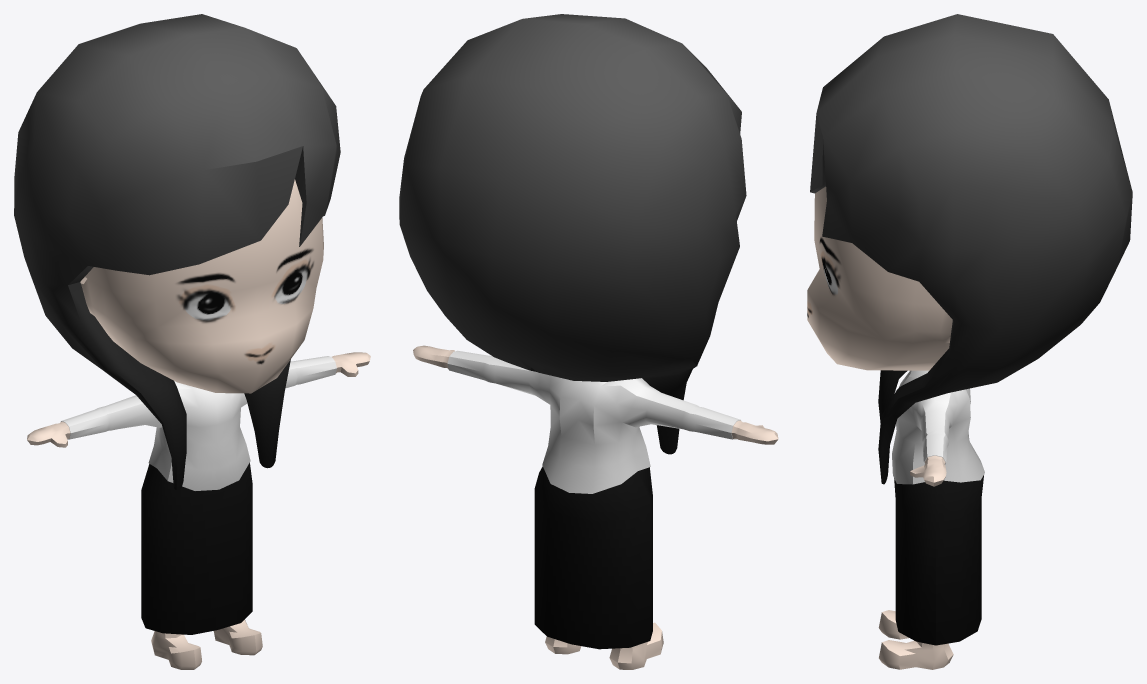
File: Char_CEWEK_004.fbx
3 renders of one model, left to right at view 1: azimuth 30°, elevation 25°; view 2: azimuth 150°, elevation 25°; view 3: azimuth 270°, elevation 25°, orthographic. The views are drawn at different scales.
Parts seen in each view (by area): view 1: Char 1.035, Char 1.031, Char 1.038, Char 1.037; view 2: Char 1.035, Char 1.038, Char 1.037, Char 1.031; view 3: Char 1.035, Char 1.031, Char 1.038, Char 1.037.
Boxes of the visible parts, bbox=[...] form: Char 1.035: bbox=[14, 14, 340, 490]; Char 1.031: bbox=[27, 179, 370, 669]; Char 1.038: bbox=[141, 462, 252, 634]; Char 1.037: bbox=[61, 356, 336, 490]; Char 1.035: bbox=[399, 14, 746, 454]; Char 1.038: bbox=[534, 466, 652, 649]; Char 1.037: bbox=[447, 350, 740, 493]; Char 1.031: bbox=[413, 345, 778, 669]; Char 1.035: bbox=[810, 14, 1132, 484]; Char 1.031: bbox=[807, 186, 953, 669]; Char 1.038: bbox=[894, 475, 983, 645]; Char 1.037: bbox=[892, 370, 984, 484].
Size of the model in its own units: 833 by 1392 by 670.
2 materials, 2 textured.
